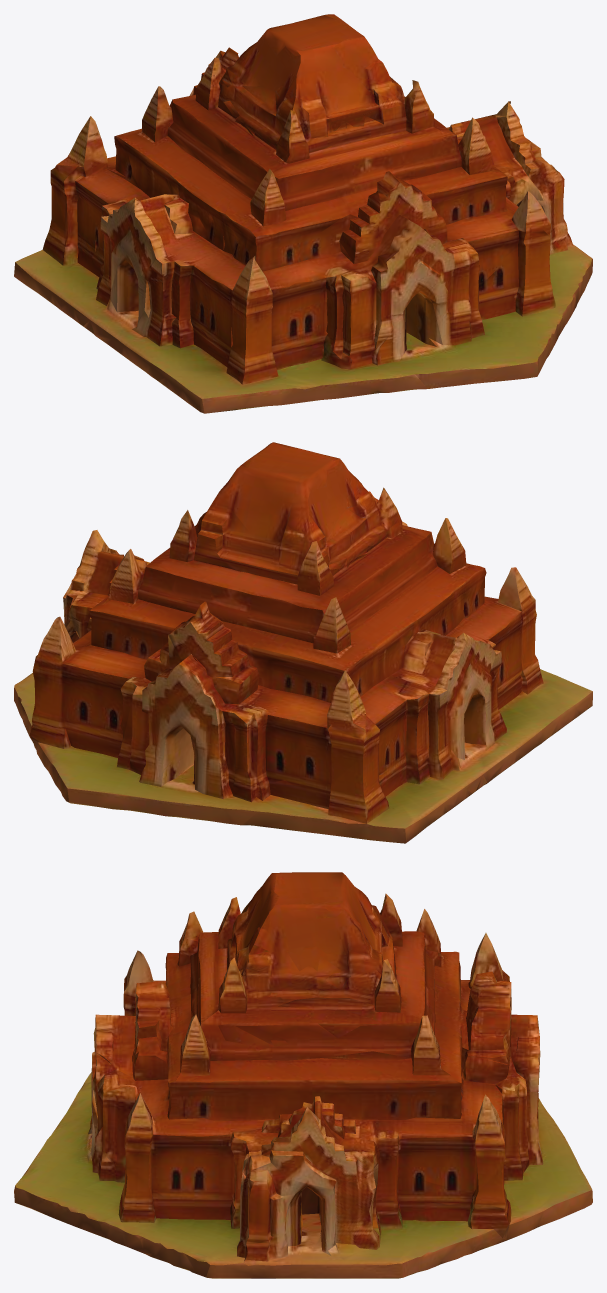
Rendered from dhammayangyi-temple.glb.
3 views of the same model, one above another, from view 1: azimuth 30°, elevation 25°; view 2: azimuth 150°, elevation 25°; view 3: azimuth 270°, elevation 25° (orthographic). The views are drawn at different scales.
Parts seen in each view (by area): view 1: logan-textured.obj; view 2: logan-textured.obj; view 3: logan-textured.obj.
Boxes of the visible parts, x1=… form: logan-textured.obj: x1=14, y1=14, x2=592, y2=413; logan-textured.obj: x1=14, y1=442, x2=592, y2=843; logan-textured.obj: x1=14, y1=872, x2=592, y2=1278.
Size of the model in its own units: 0.9181 by 0.5219 by 1.
1 material, 1 textured.
